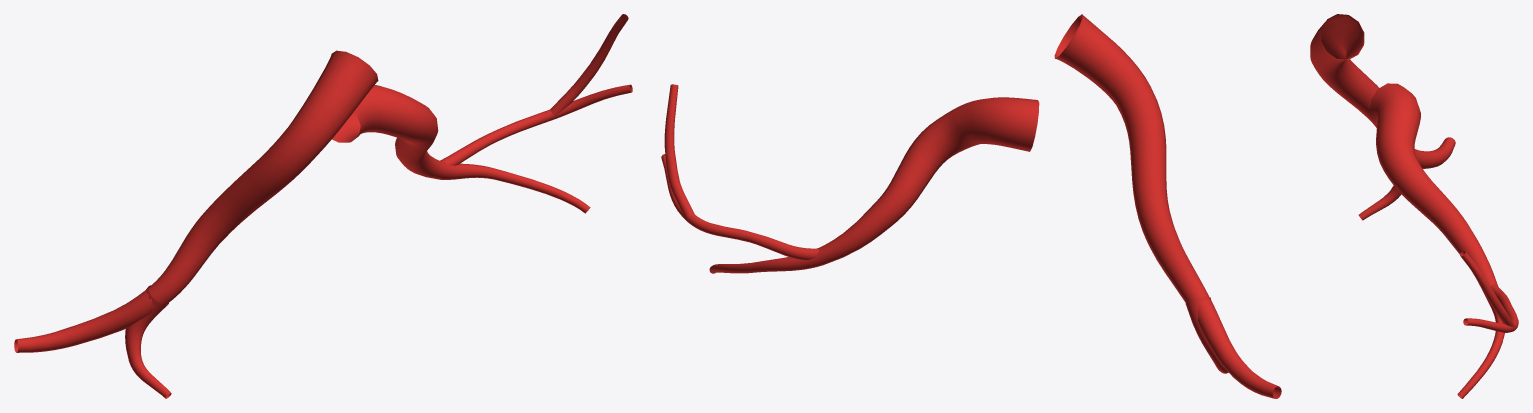
Rendered from circulatorio-middle-genicular-artery-l.glb.
The picture shows the model from 3 angles, left to right: view 1: azimuth 30°, elevation 25°; view 2: azimuth 150°, elevation 25°; view 3: azimuth 270°, elevation 25°; orthographic projection. The views are drawn at different scales.
Parts seen in each view (by area): view 1: Middle genicular artery.l; view 2: Middle genicular artery.l; view 3: Middle genicular artery.l.
Boxes of the visible parts, x1,y1,x2,y2 form: Middle genicular artery.l: (14, 14, 632, 398); Middle genicular artery.l: (661, 14, 1281, 398); Middle genicular artery.l: (1310, 14, 1518, 398).
Size of the model in its own units: 0.0532 by 0.0257 by 0.0175.
